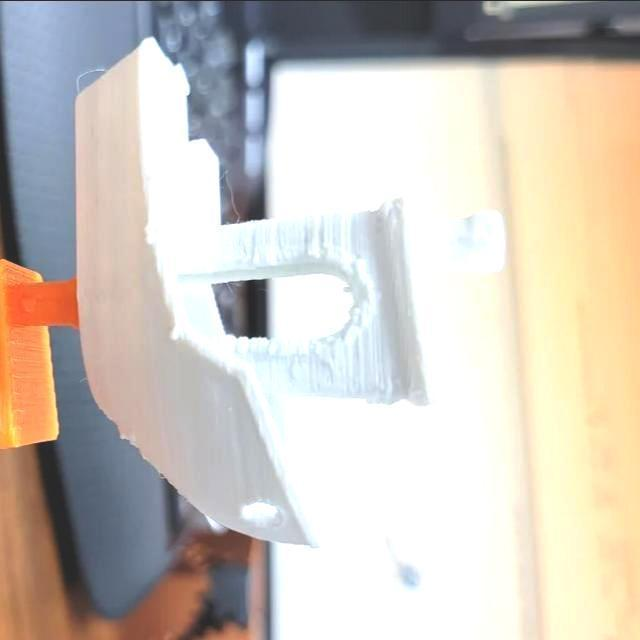zits: (138, 215, 160, 247), (164, 320, 180, 342)
